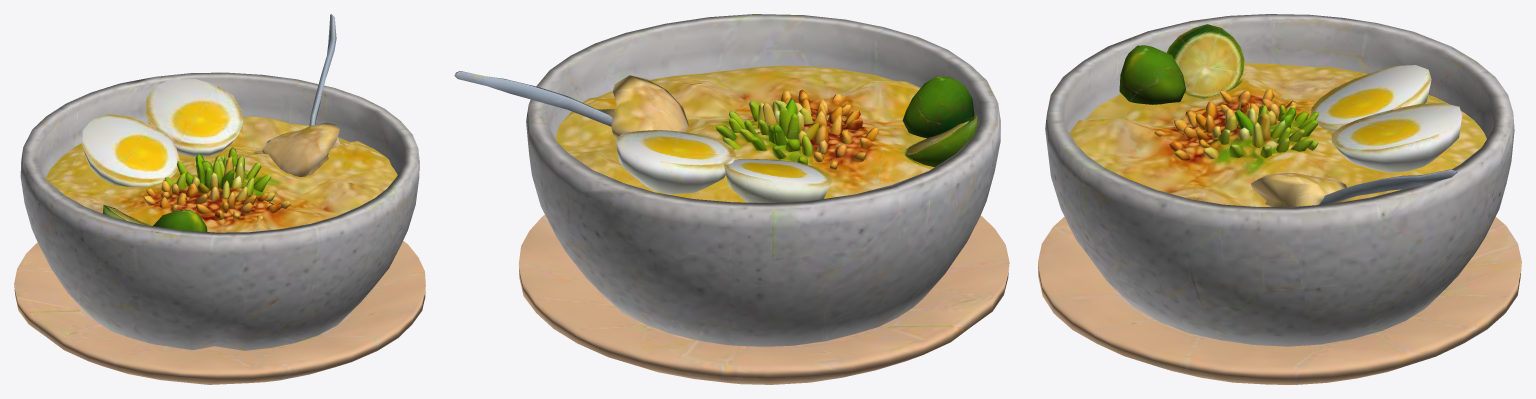
File: arroz-caldo.glb
The picture shows the model from 3 angles, left to right: view 1: azimuth 30°, elevation 25°; view 2: azimuth 150°, elevation 25°; view 3: azimuth 270°, elevation 25°; orthographic projection. The views are drawn at different scales.
Visible parts, largest first — view 1: geometry_0; view 2: geometry_0; view 3: geometry_0.
Boxes of the visible parts, <box> form: geometry_0: <box>14,14,425,384</box>; geometry_0: <box>454,14,1009,384</box>; geometry_0: <box>1038,14,1521,384</box>.
Size of the model in its own units: 1 by 0.6295 by 0.9897.
1 material, 1 textured.
